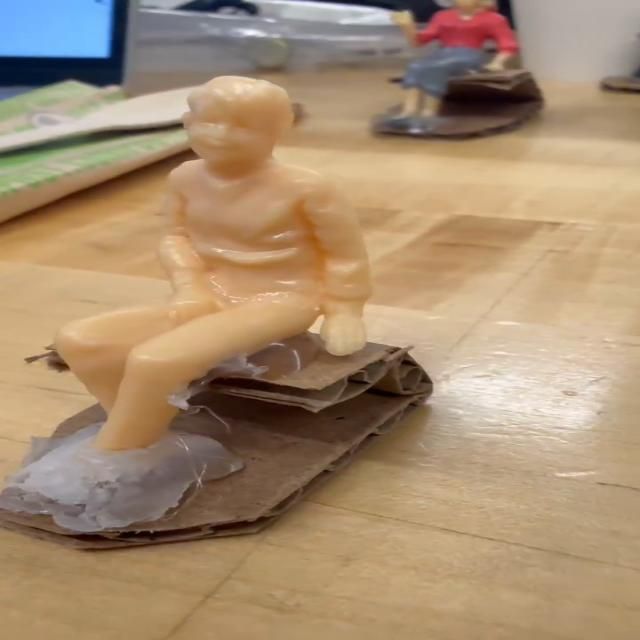Unauthorized: (18, 66, 431, 517)
